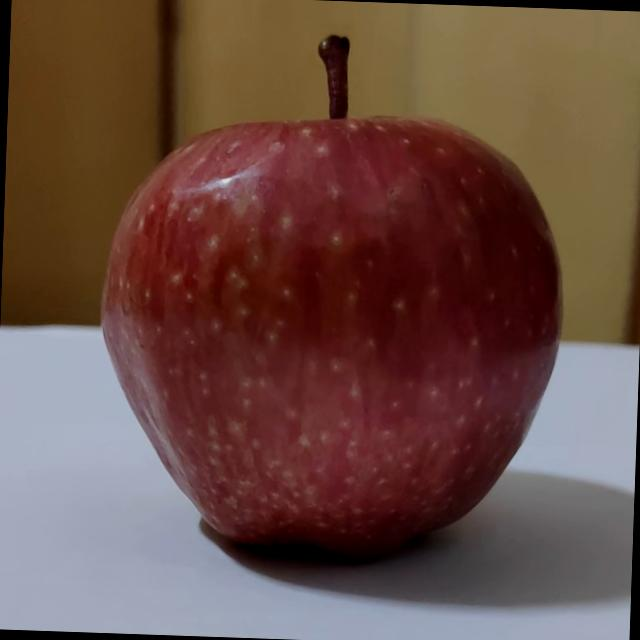apple: (84, 26, 574, 572)
